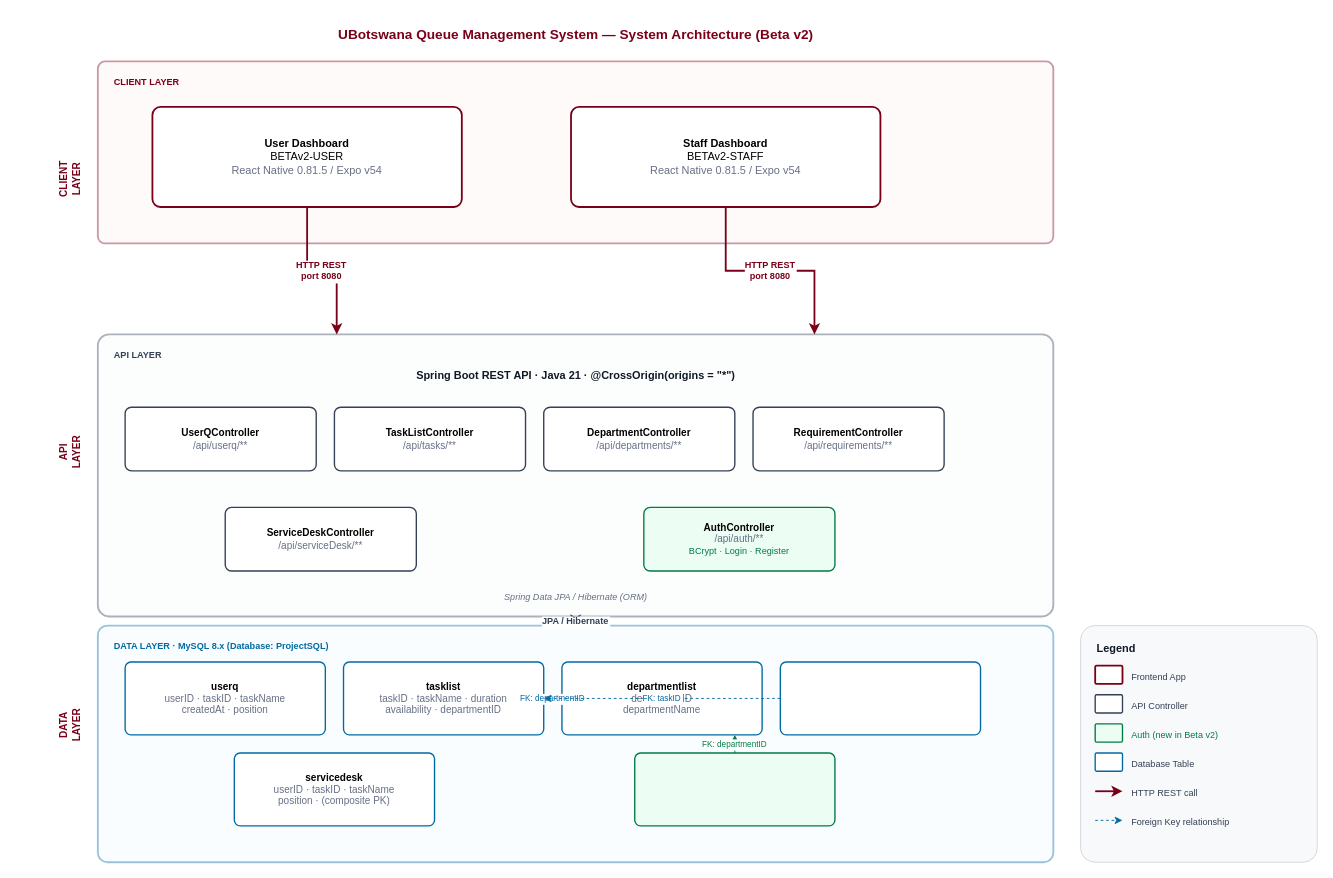
This 1333x878 diagram has some shape labels left out. The centre of each missing label's shape, as x and y in pixels:
"requirements taskID · document (composite PK)" belongs at (880,698).
"staffaccount staffID · username password (BCrypt) · departmentID" belongs at (734,789).
